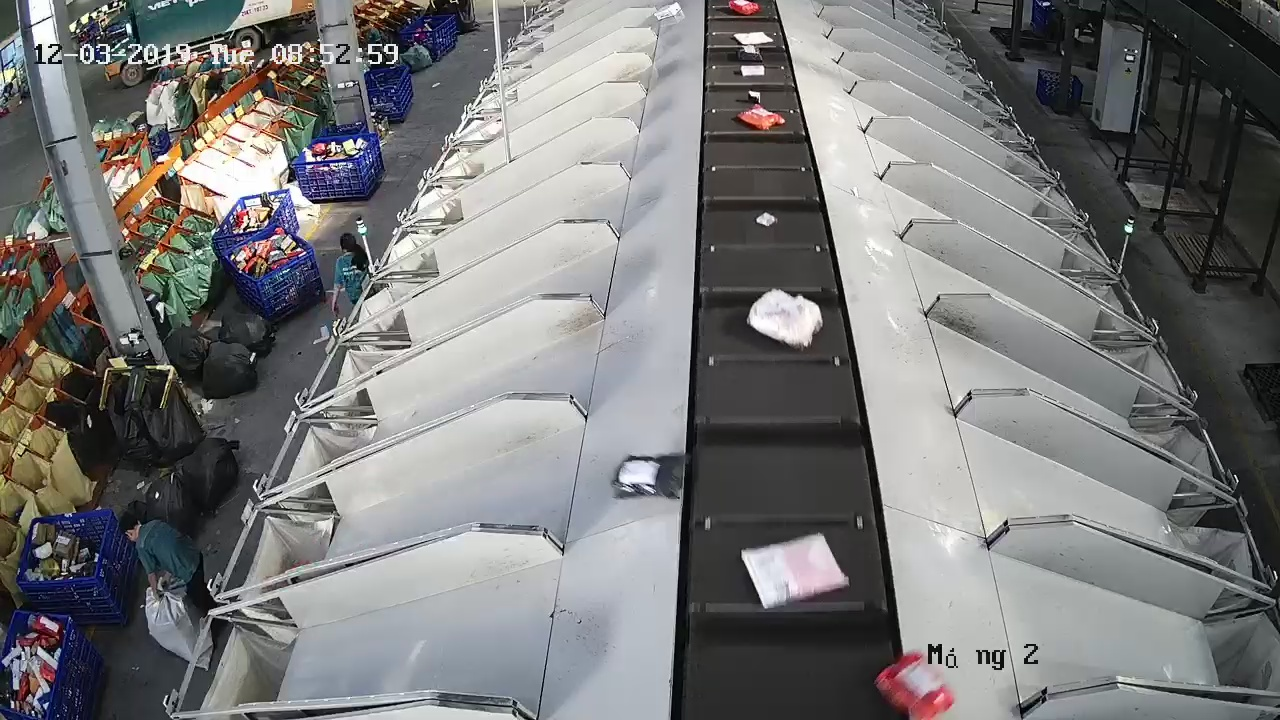parcel: (739, 531, 851, 611), (871, 648, 958, 720), (745, 286, 825, 353), (609, 453, 691, 502), (754, 209, 779, 229)
